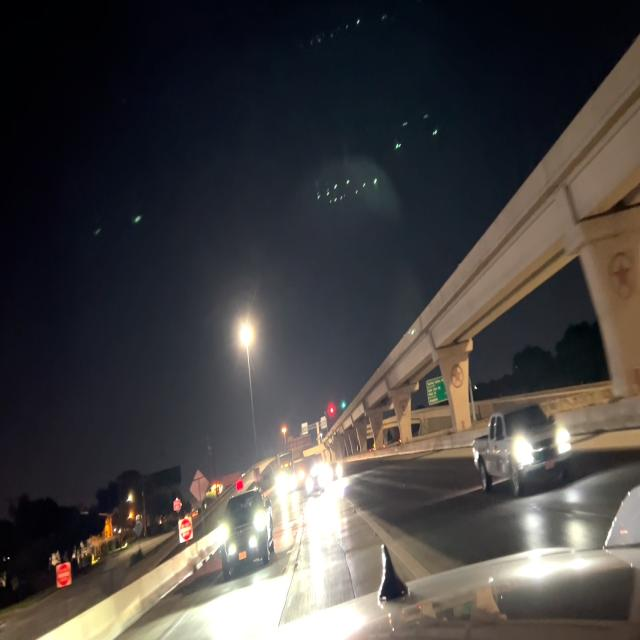back-of-sign: (188, 467, 211, 505), (288, 434, 313, 453), (251, 465, 265, 485)
